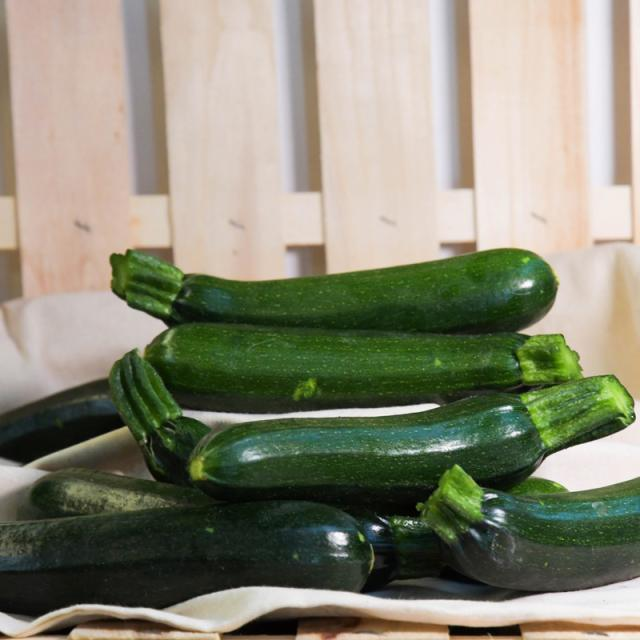Zucchini: (120, 248, 562, 328)
